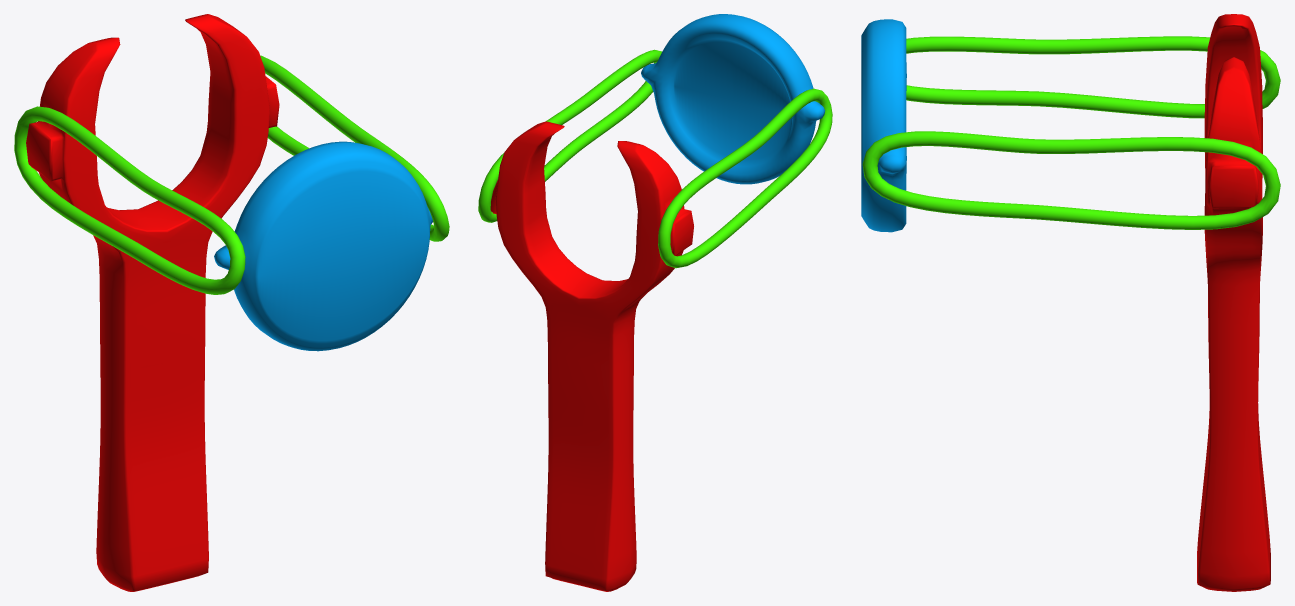
The model's file is slingshot.fbx.
3 renders of one model, left to right at view 1: azimuth 30°, elevation 25°; view 2: azimuth 150°, elevation 25°; view 3: azimuth 270°, elevation 25°, orthographic. The views are drawn at different scales.
Visible parts, largest first — view 1: SlingShot; view 2: SlingShot; view 3: SlingShot.
Part boxes in pixels (<box>): SlingShot: <box>14,14,449,591</box>; SlingShot: <box>478,14,832,591</box>; SlingShot: <box>861,14,1280,591</box>.
Size of the model in its own units: 264 by 557 by 390.
